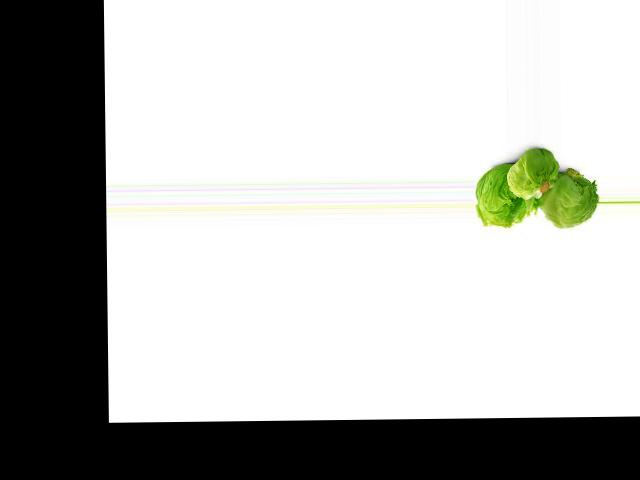lettuce: (478, 167, 530, 224)
